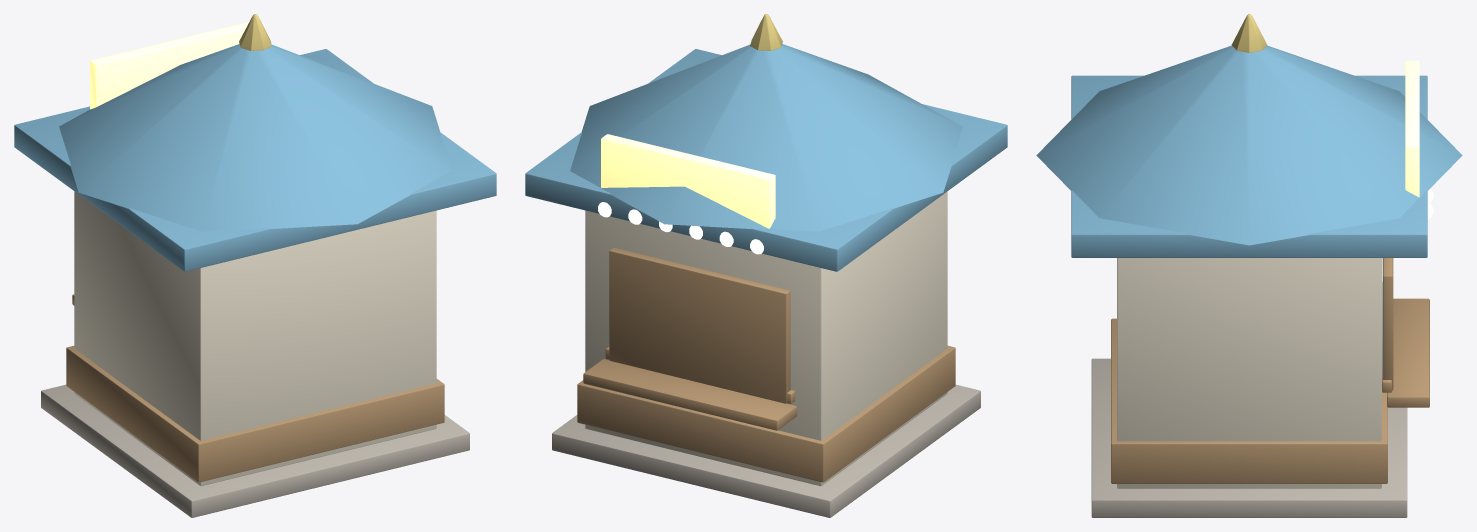
Rendered from th33_kassenhaus.glb.
The picture shows the model from 3 angles, left to right: view 1: azimuth 30°, elevation 25°; view 2: azimuth 150°, elevation 25°; view 3: azimuth 270°, elevation 25°; orthographic projection. The views are drawn at different scales.
Visible parts, largest first — view 1: Cube.001, Cone, Cube.002, Cube.007, Cube, Cube.008, Cone.001; view 2: Cone, Cube.001, Cube.004, Cube.002, Cube, Cube.007, Cube.008, Cube.006, Cone.001; view 3: Cone, Cube.001, Cube, Cube.007, Cube.002, Cube.006, Cube.008, Cube.004, Cone.001.
Boxes of the visible parts, <box> form: Cube.001: <box>74,191,436,486</box>; Cone: <box>59,44,451,231</box>; Cube.002: <box>66,345,444,482</box>; Cube.007: <box>14,49,496,271</box>; Cube: <box>41,384,469,517</box>; Cube.008: <box>90,22,264,109</box>; Cone.001: <box>239,14,271,50</box>; Cone: <box>570,44,962,231</box>; Cube.001: <box>585,191,947,486</box>; Cube.004: <box>609,247,790,403</box>; Cube.002: <box>577,345,955,482</box>; Cube: <box>552,384,980,517</box>; Cube.007: <box>525,49,1007,271</box>; Cube.008: <box>601,134,775,228</box>; Cube.006: <box>583,359,797,430</box>; Cone.001: <box>750,14,782,50</box>; Cone: <box>1036,45,1462,245</box>; Cube.001: <box>1117,258,1381,488</box>; Cube: <box>1091,358,1407,517</box>; Cube.007: <box>1071,75,1427,257</box>; Cube.002: <box>1111,318,1387,483</box>; Cube.006: <box>1387,298,1429,407</box>; Cube.008: <box>1405,60,1419,197</box>; Cube.004: <box>1383,258,1393,390</box>; Cone.001: <box>1231,14,1267,52</box>.
Bounding box in the file's own units: 4.18 × 4.69 × 4.18.
